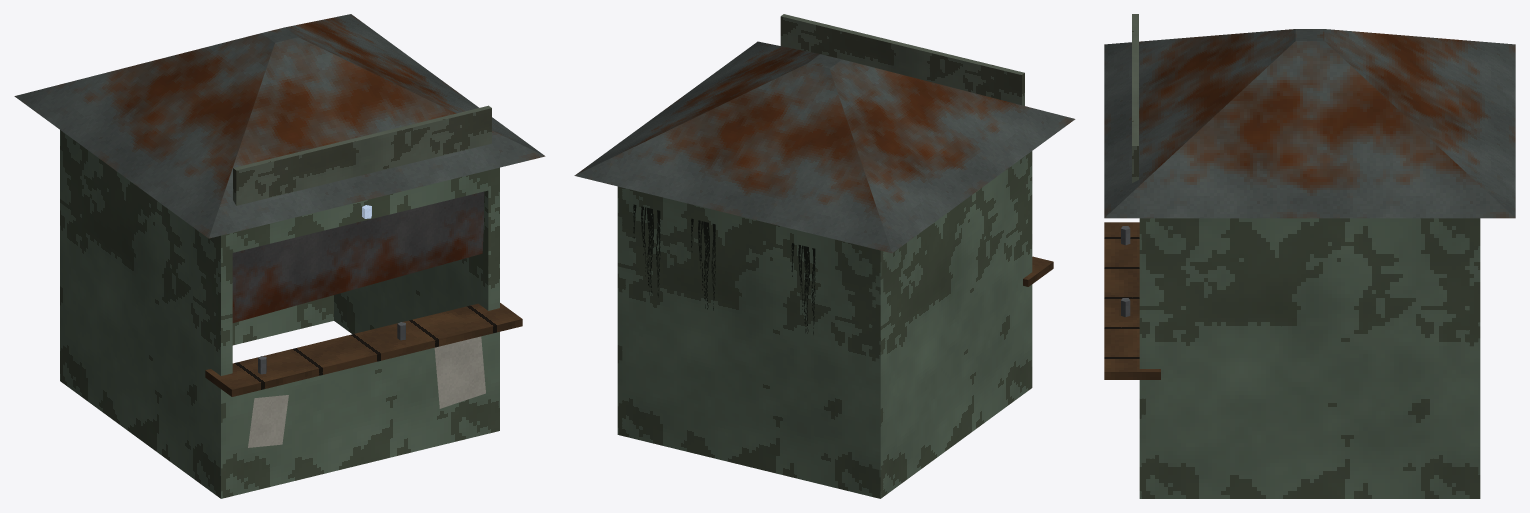
Rendered from park_kiosk.glb.
3 renders of one model, left to right at view 1: azimuth 30°, elevation 25°; view 2: azimuth 150°, elevation 25°; view 3: azimuth 270°, elevation 25°, orthographic. The views are drawn at different scales.
Parts seen in each view (by area): view 1: kiosk-col, detail; view 2: kiosk-col, detail; view 3: kiosk-col, detail.
Boxes of the visible parts, box(x1,y1,x2,y2) form: kiosk-col: box(60, 130, 522, 498); detail: box(14, 14, 545, 447); kiosk-col: box(617, 151, 1053, 498); detail: box(574, 14, 1075, 334); kiosk-col: box(1104, 218, 1480, 498); detail: box(1104, 14, 1515, 317).
Size of what is drawn, in the model's own units: 2.9 by 3.05 by 2.9.
Materials: 10 (10 with a texture image).
